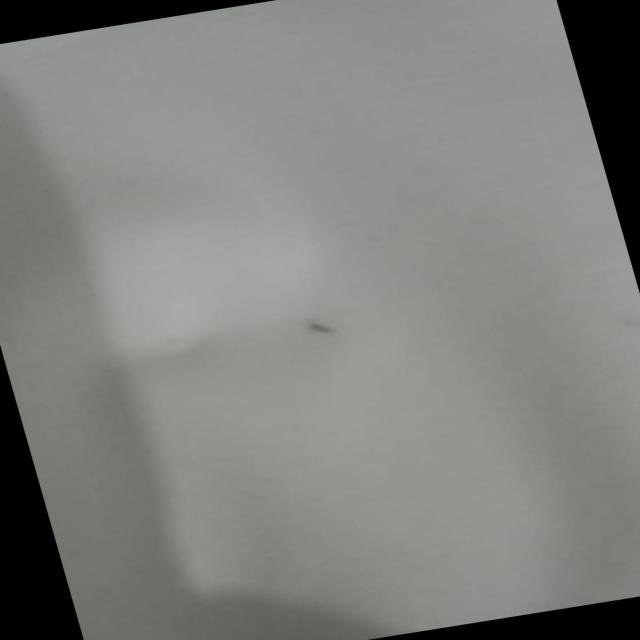stain: (283, 300, 361, 348)
